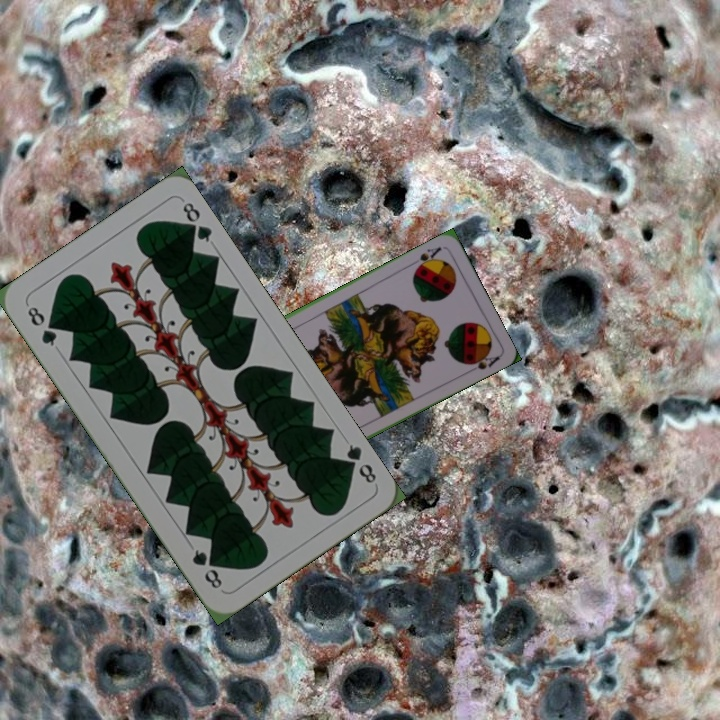G8: (338, 440, 379, 486), (23, 300, 60, 349)
SA: (408, 242, 444, 273)
